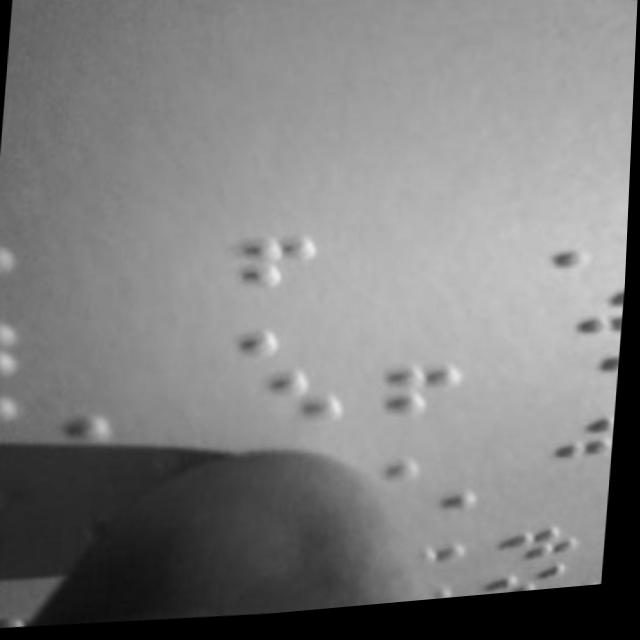braiile: (345, 367, 465, 441), (204, 233, 324, 307)
